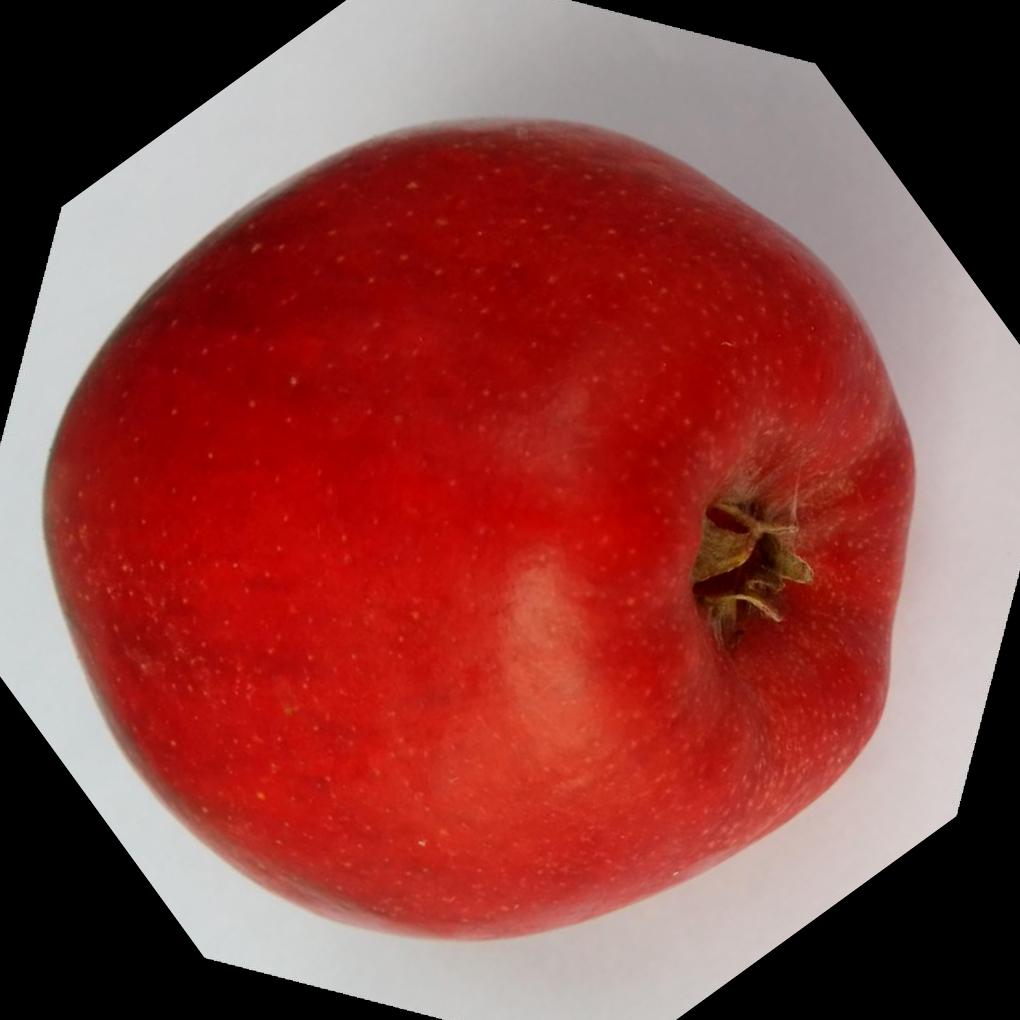FreshGuava: (41, 113, 923, 942)
